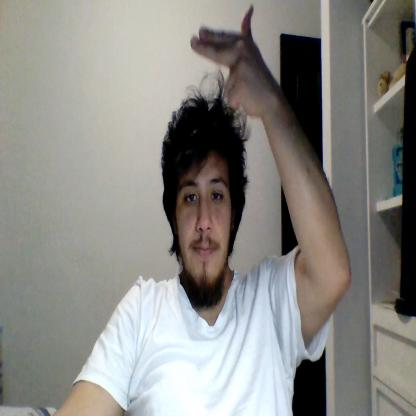H: (191, 3, 265, 117)
